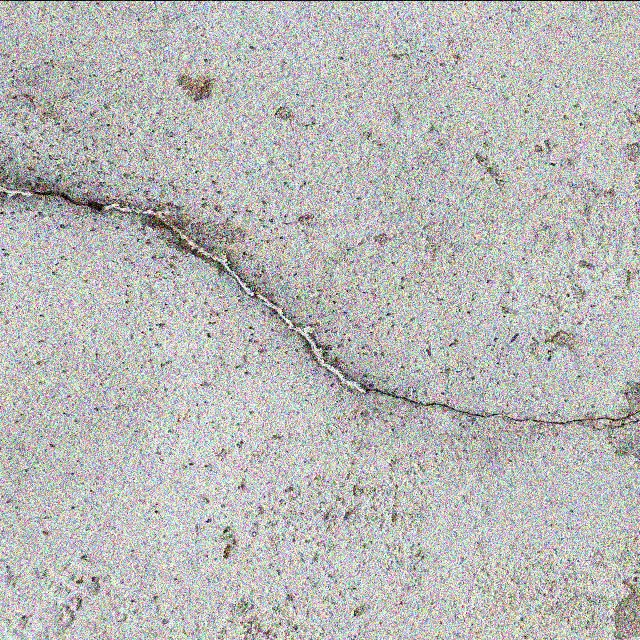SurfaceCrack: (0, 148, 639, 459)
